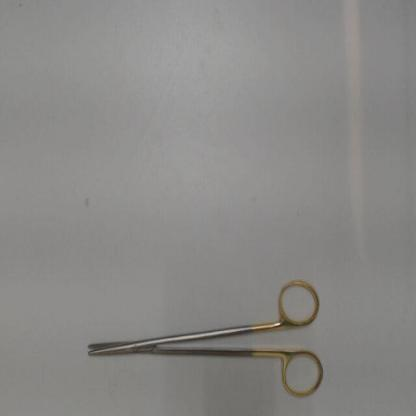7 Metzenbaum Scissors: (84, 276, 330, 404)
